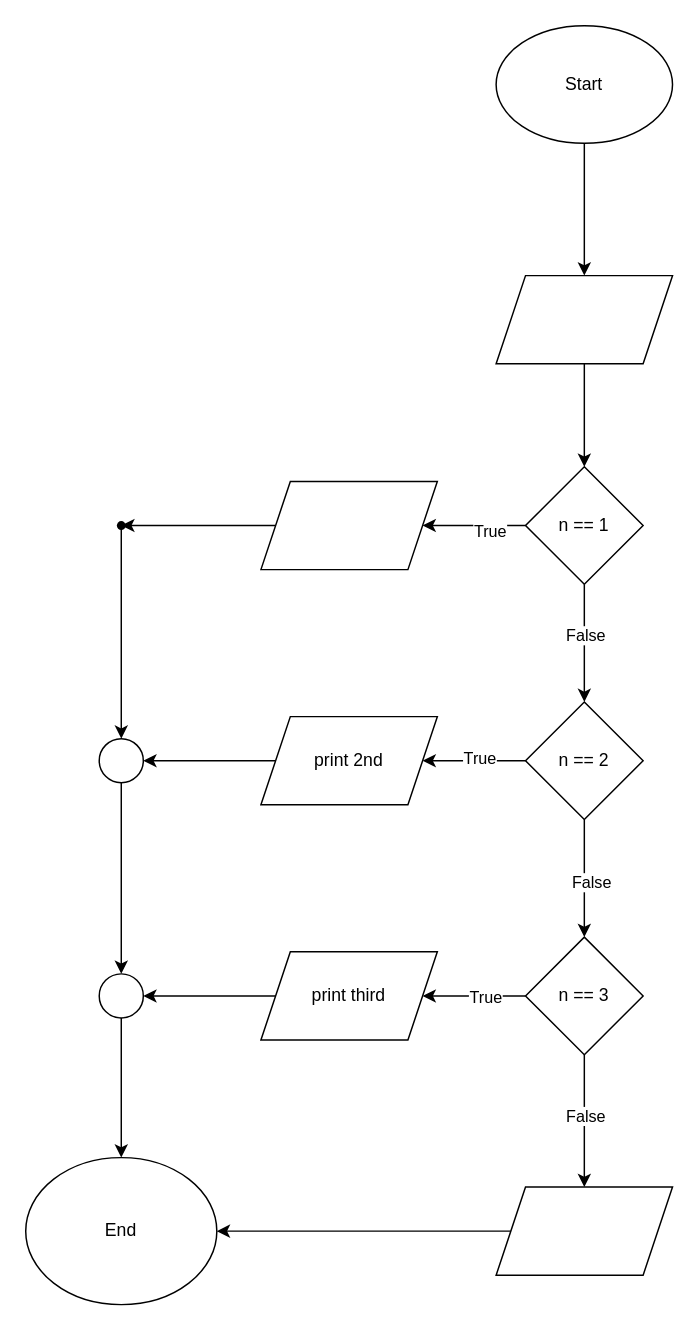
Some shapes in this 698 by 1330 pixel diagram are drawn without their labels. Each missing label, with the centre of its shape:
print 1st: [348,525]
print nth: [584,1230]
read n: [584,319]
